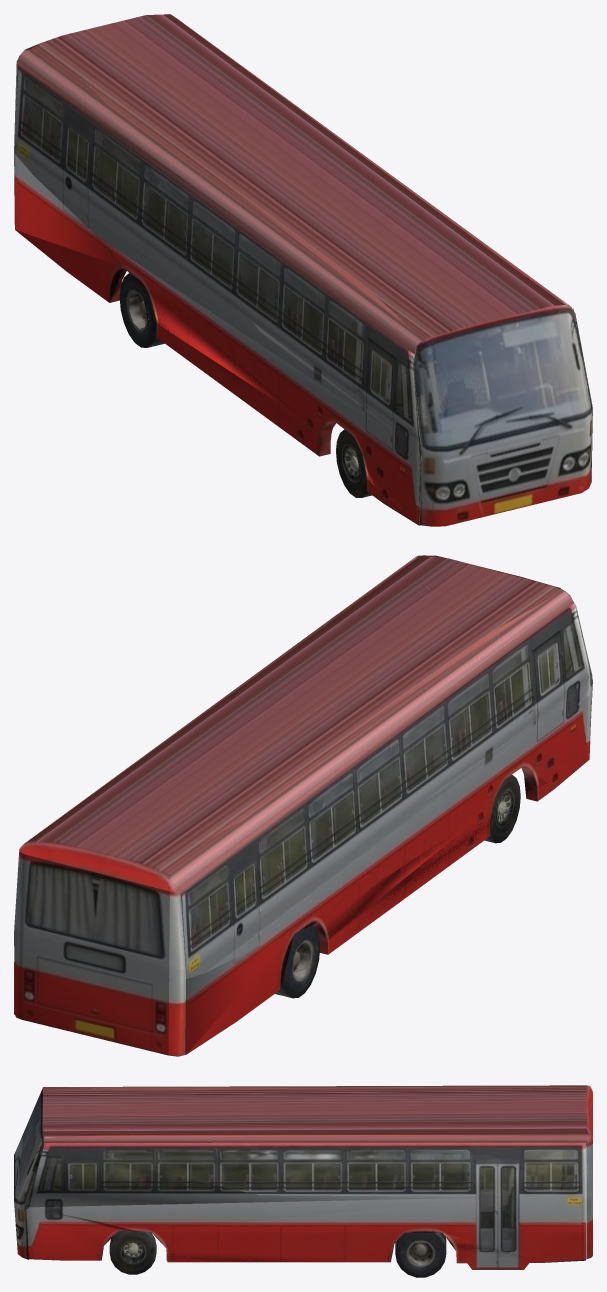
The model's file is kl_ksrtc.glb.
3 renders of one model, top to bottom at view 1: azimuth 30°, elevation 25°; view 2: azimuth 150°, elevation 25°; view 3: azimuth 270°, elevation 25°, orthographic. The views are drawn at different scales.
Parts seen in each view (by area): view 1: body_0 (×2), body_7 (×2), spin (×2); view 2: body_0 (×2), body_7 (×2), spin (×2); view 3: body_0 (×2), body_7 (×2), spin (×2).
Boxes of the visible parts, left/top/right/bottom form: body_0 (×2): left=14, top=14, right=592, bottom=526; body_7 (×2): left=119, top=273, right=164, bottom=347; spin (×2): left=336, top=429, right=371, bottom=497; body_0 (×2): left=14, top=555, right=592, bottom=1056; body_7 (×2): left=275, top=925, right=320, bottom=998; spin (×2): left=484, top=774, right=520, bottom=843; body_0 (×2): left=14, top=1085, right=592, bottom=1269; body_7 (×2): left=395, top=1232, right=446, bottom=1277; spin (×2): left=109, top=1230, right=156, bottom=1274.
Size of the model in its own units: 2.58 by 3 by 10.8.
Materials: 3 (2 with a texture image).
